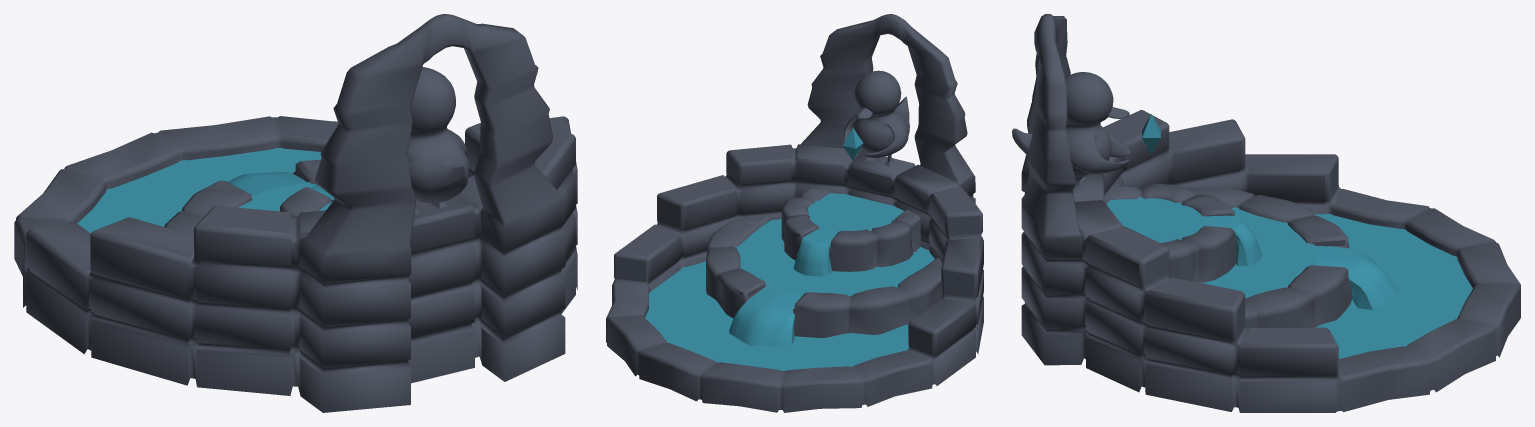
File: M_ManaFountain(Old).fbx
3 views of the same model, side by side, from view 1: azimuth 30°, elevation 25°; view 2: azimuth 150°, elevation 25°; view 3: azimuth 270°, elevation 25° (orthographic). The views are drawn at different scales.
Visible parts, largest first — view 1: ManaFountain.001, Water.002, Duck, FountainEdge.001, Waterfall.001, Water.001, FountainEdge; view 2: ManaFountain.001, Water.002, FountainEdge.001, Water.001, FountainEdge, Duck, Waterfall.001, Water, Waterfall, Crystal.004; view 3: ManaFountain.001, Water.002, FountainEdge.001, Duck, FountainEdge, Water.001, Water, Waterfall.001, Waterfall, Crystal.004.
Boxes of the visible parts, left/top/right/bottom form: ManaFountain.001: left=14, top=14, right=577, bottom=412; Water.002: left=77, top=147, right=321, bottom=233; Duck: left=408, top=67, right=468, bottom=213; FountainEdge.001: left=164, top=159, right=320, bottom=235; Waterfall.001: left=228, top=171, right=306, bottom=195; Water.001: left=238, top=182, right=317, bottom=211; FountainEdge: left=280, top=186, right=331, bottom=218; ManaFountain.001: left=606, top=14, right=983, bottom=412; Water.002: left=645, top=261, right=908, bottom=370; FountainEdge.001: left=706, top=216, right=942, bottom=337; Water.001: left=735, top=219, right=934, bottom=296; FountainEdge: left=781, top=188, right=920, bottom=271; Duck: left=844, top=70, right=909, bottom=166; Waterfall.001: left=729, top=286, right=802, bottom=346; Water: left=807, top=193, right=903, bottom=231; Waterfall: left=793, top=227, right=838, bottom=276; Crystal.004: left=842, top=128, right=863, bottom=160; ManaFountain.001: left=1021, top=14, right=1520, bottom=412; Water.002: left=1314, top=214, right=1472, bottom=358; FountainEdge.001: left=1184, top=187, right=1352, bottom=329; Duck: left=1012, top=72, right=1129, bottom=192; FountainEdge: left=1110, top=183, right=1237, bottom=282; Water.001: left=1198, top=207, right=1317, bottom=298; Water: left=1106, top=197, right=1203, bottom=242; Waterfall.001: left=1315, top=245, right=1399, bottom=309; Waterfall: left=1202, top=215, right=1262, bottom=266; Crystal.004: left=1142, top=114, right=1160, bottom=154.
Bounding box in the file's own units: 1.47 × 1.09 × 1.64.
